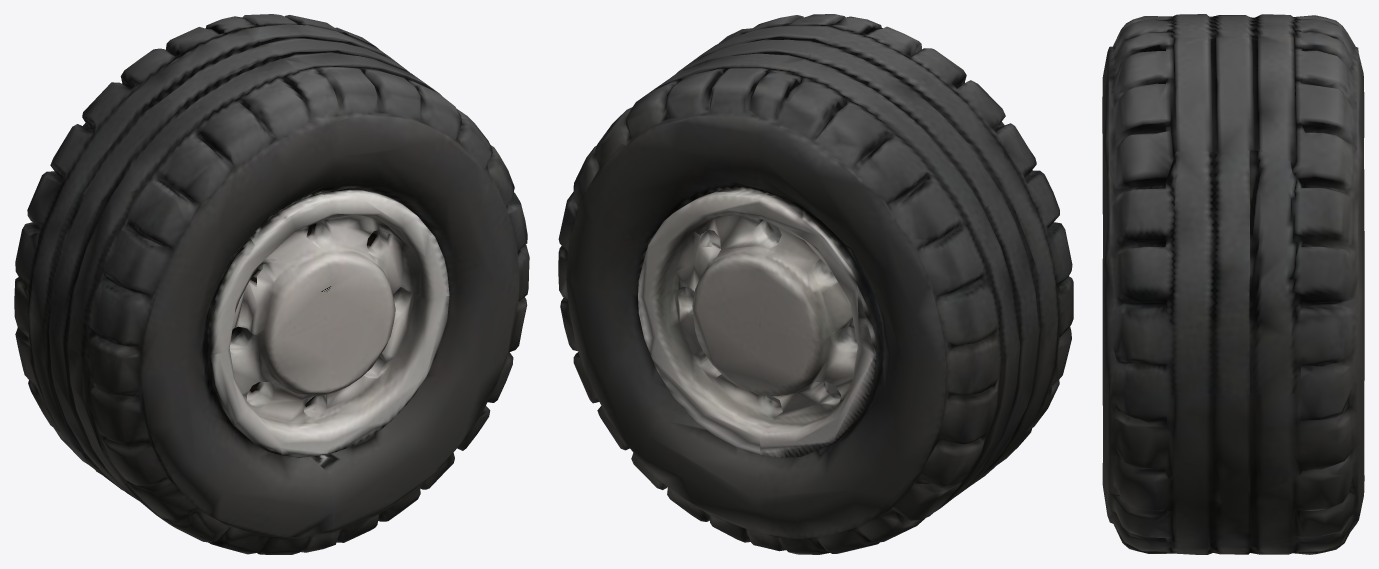
Rendered from wheel.glb.
The picture shows the model from 3 angles, left to right: view 1: azimuth 30°, elevation 25°; view 2: azimuth 150°, elevation 25°; view 3: azimuth 270°, elevation 25°; orthographic projection. The views are drawn at different scales.
Visible parts, largest first — view 1: tripo_node_bd1feae9-04cf-42d8-9c63-6295b47a16f5; view 2: tripo_node_bd1feae9-04cf-42d8-9c63-6295b47a16f5; view 3: tripo_node_bd1feae9-04cf-42d8-9c63-6295b47a16f5.
Part boxes in pixels (<box>): tripo_node_bd1feae9-04cf-42d8-9c63-6295b47a16f5: <box>14,14,529,554</box>; tripo_node_bd1feae9-04cf-42d8-9c63-6295b47a16f5: <box>558,14,1073,554</box>; tripo_node_bd1feae9-04cf-42d8-9c63-6295b47a16f5: <box>1102,14,1364,554</box>.
Bounding box in the file's own units: 0.9627 × 0.9998 × 0.48.
1 material, 1 textured.
